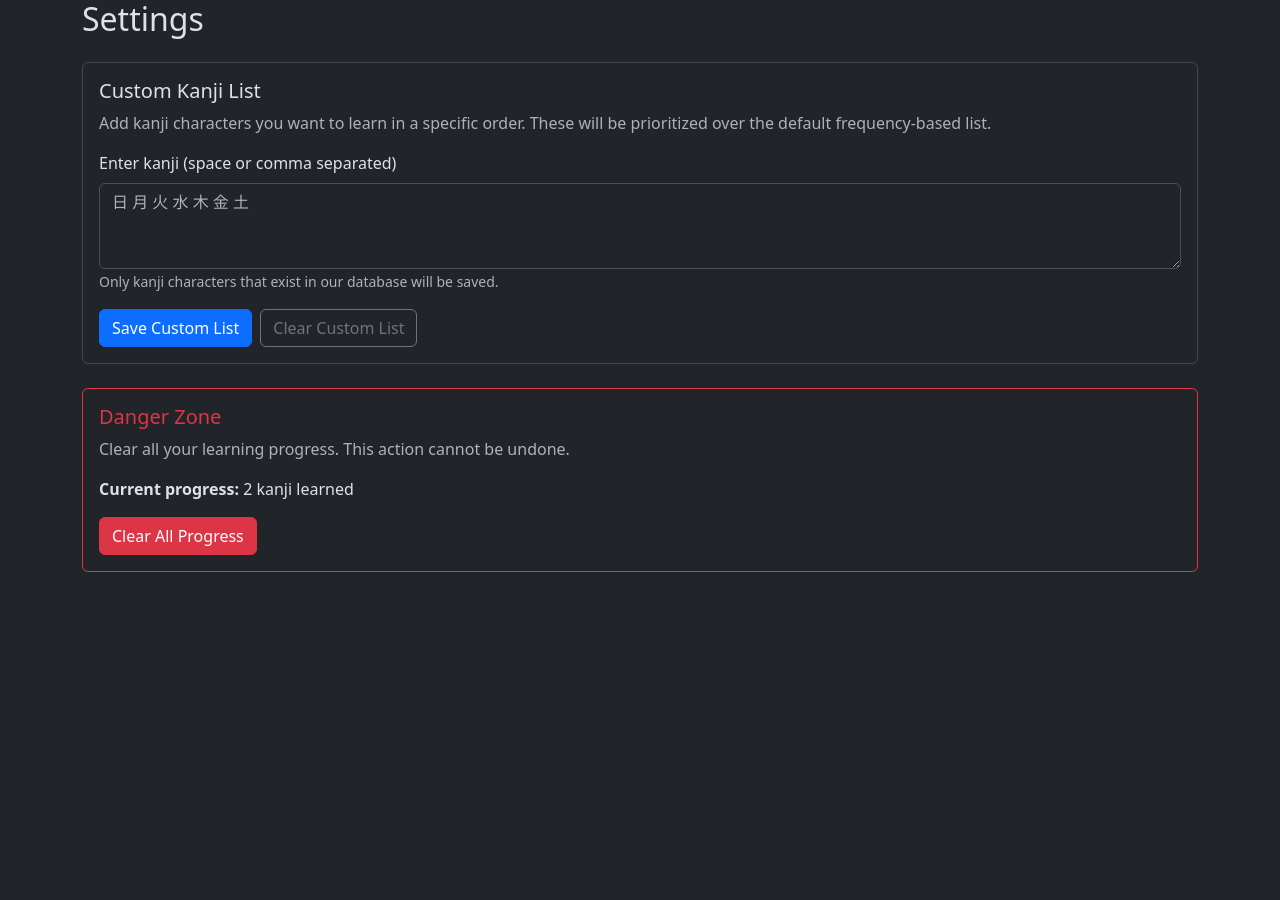
SettingsPage › shows confirmation modal when clear progress is clicked
The width and height of the screenshot is (1280, 900).
Click the button with test id "clear-progress-button" at [178, 536], box [99,517,257,555]
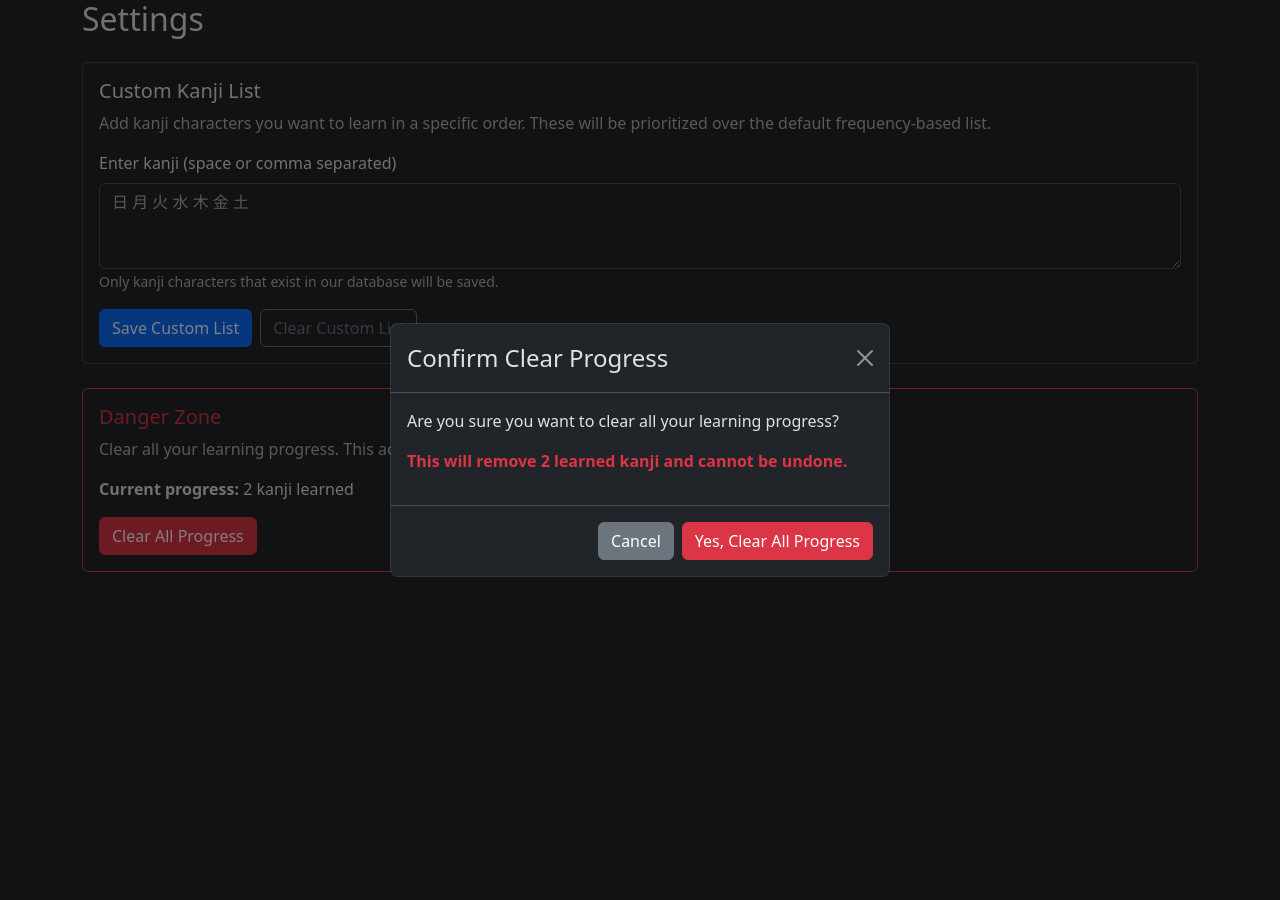
Check: the text "Confirm Clear Progress" is shown, box [407,340,668,376]
